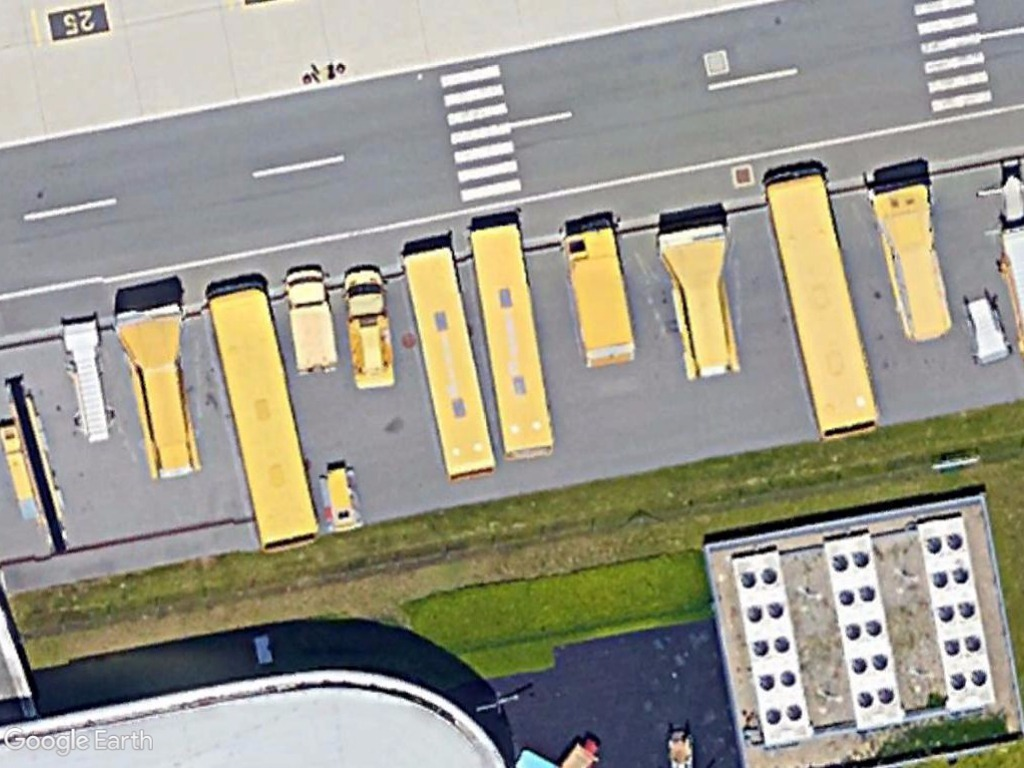bus: (756, 164, 883, 442), (201, 271, 322, 556), (397, 239, 499, 483), (460, 214, 559, 462)
stairtruck: (111, 300, 208, 484), (654, 217, 744, 384), (55, 310, 119, 449)
truck: (336, 264, 403, 395), (279, 259, 346, 379)
